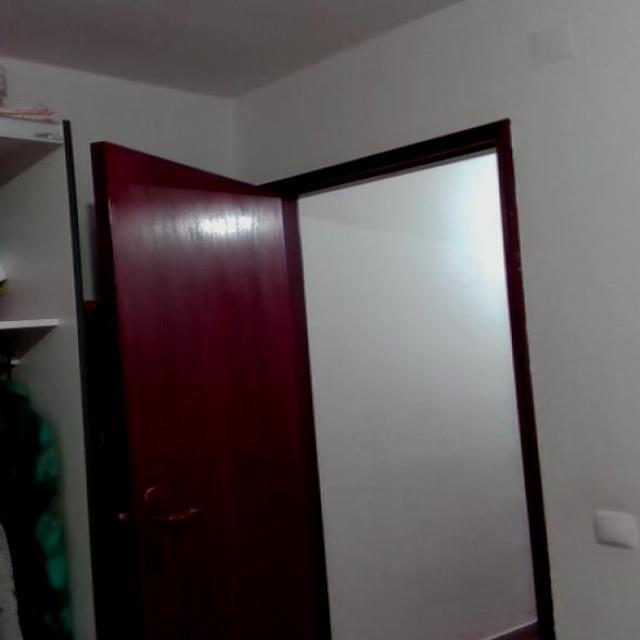door: (76, 109, 342, 640)
